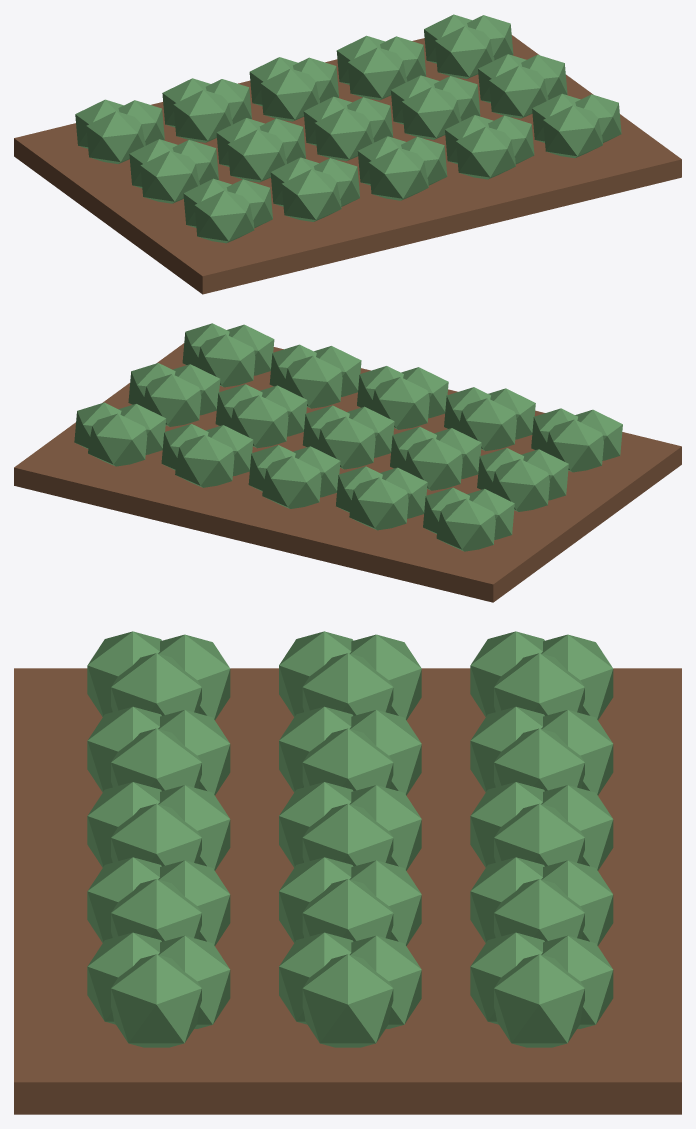
The model's file is nature_vegetable_patch.glb.
3 views of the same model, one above another, from view 1: azimuth 30°, elevation 25°; view 2: azimuth 150°, elevation 25°; view 3: azimuth 270°, elevation 25° (orthographic). The views are drawn at different scales.
Parts seen in each view (by area): view 1: nature_vegetable_patch; view 2: nature_vegetable_patch; view 3: nature_vegetable_patch.
Part boxes in pixels (left/top/right/bottom): nature_vegetable_patch: left=14, top=14, right=681, bottom=294; nature_vegetable_patch: left=14, top=323, right=681, bottom=602; nature_vegetable_patch: left=14, top=631, right=681, bottom=1114.
Size of the model in its own units: 2.2 by 0.29 by 1.5.
